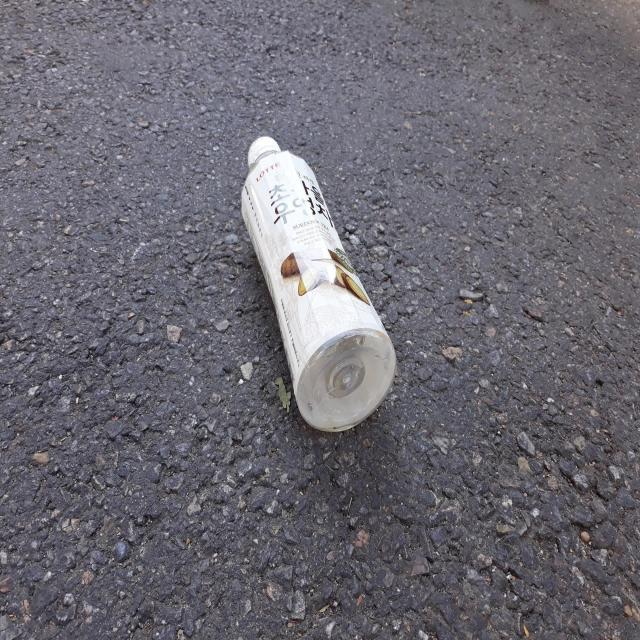plastic: (242, 136, 396, 431)
